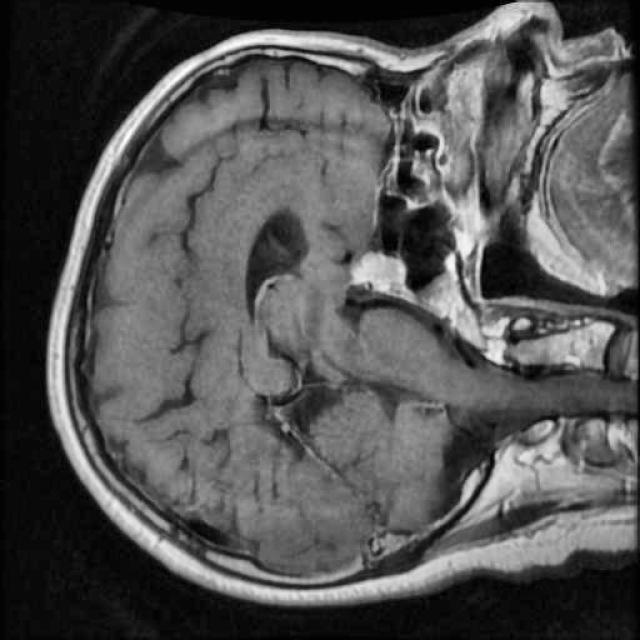Tumor: (340, 241, 420, 311)
